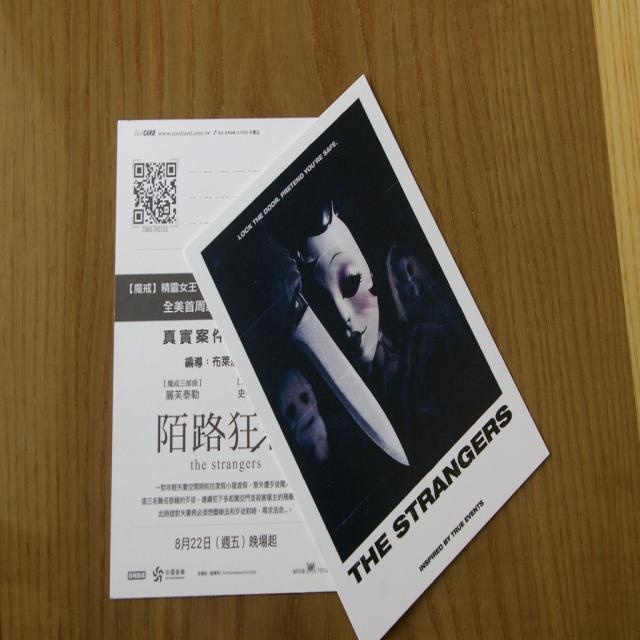qr-code: (133, 162, 176, 222)
